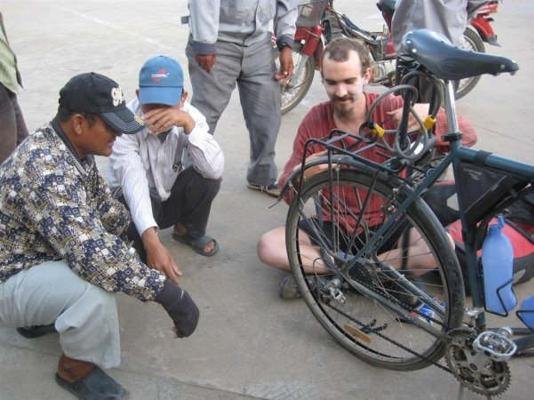person: (252, 37, 457, 304)
